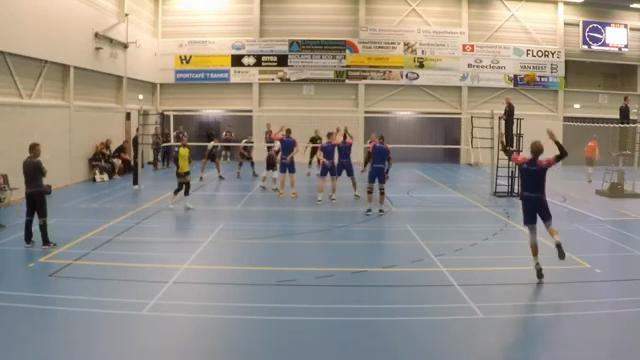Player: (365, 135, 390, 215), (274, 128, 298, 197), (337, 126, 359, 198), (317, 128, 338, 202), (169, 136, 190, 207), (260, 133, 279, 190), (199, 139, 224, 180), (237, 136, 258, 177), (303, 129, 321, 175), (361, 151, 369, 172)
Serve: (496, 126, 576, 282)
ball: (522, 70, 538, 87)
